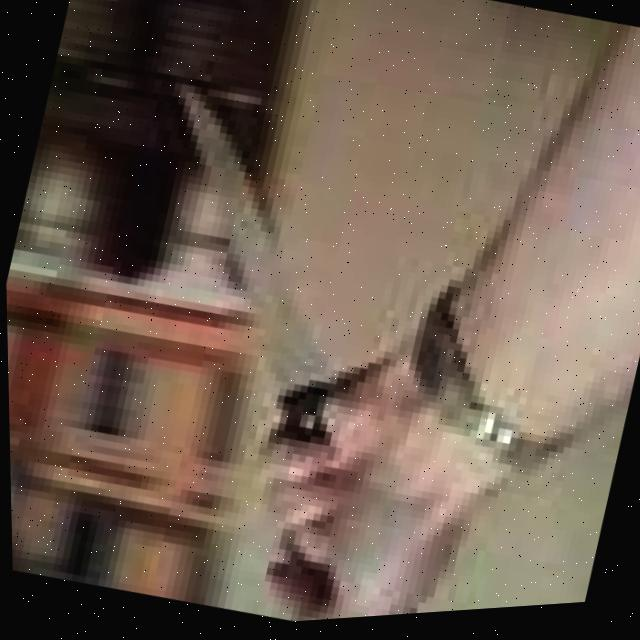knife: (100, 69, 392, 447)
